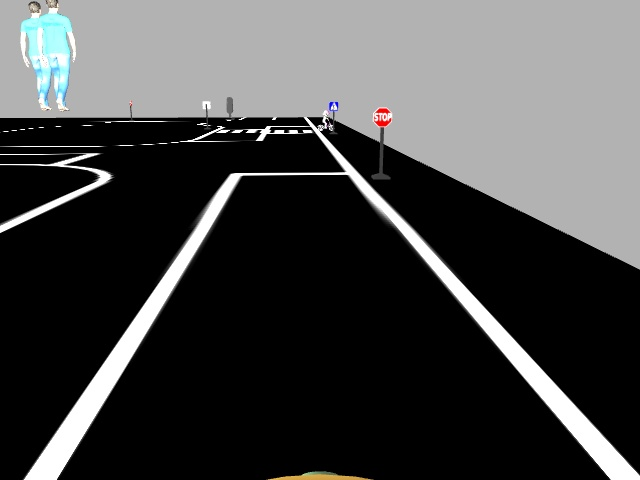Stop: (372, 106, 392, 126)
